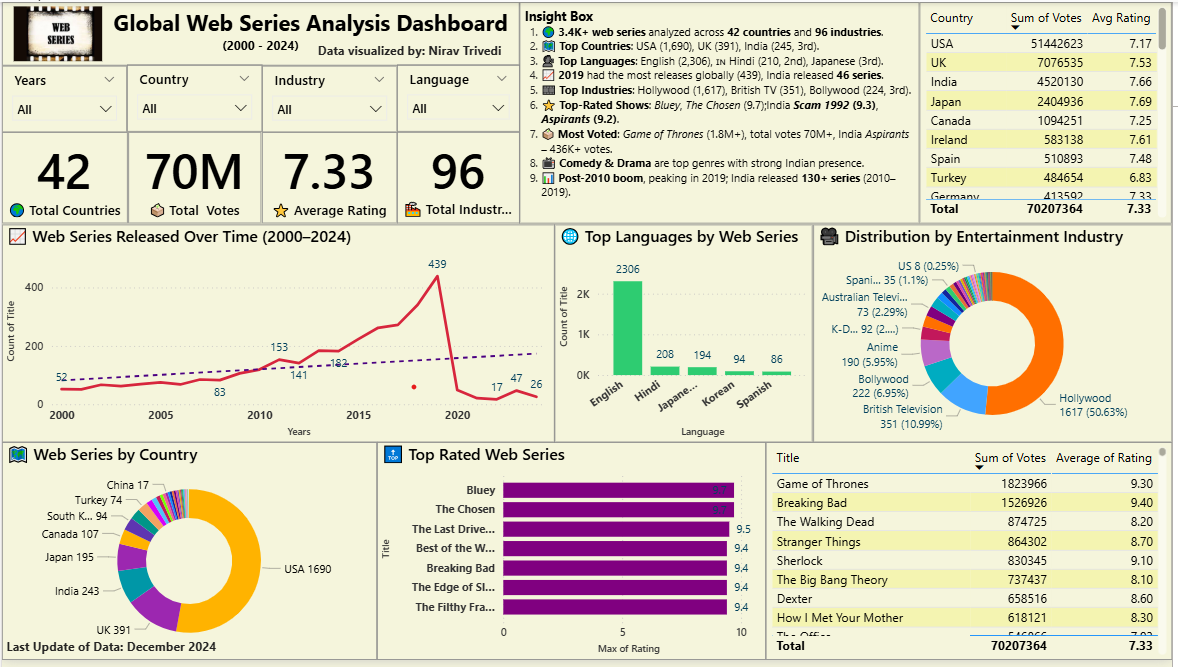

What the dashboard file says about the page in this screenshot:
{"tool":"powerbi","page":{"name":"Page 1","canvas":[1280,720],"ordinal":0},"visuals":[{"type":"donutChart","title":"🗺️ Web Series by Country","fields":{"Category":["imdb_tvshows.Country "],"Y":["CountNonNull(imdb_tvshows.SR No)"]},"box":[0,481.6,410.3,238.8],"z":0},{"type":"lineChart","title":"📈 Web Series Released Over Time (2000–2024)","fields":{"Category":["imdb_tvshows.Years"],"Y":["CountNonNull(imdb_tvshows.Title)"]},"box":[0,242.9,605.1,238.8],"z":1000},{"type":"barChart","title":"🔝 Top Rated Web Series","fields":{"Category":["imdb_tvshows.Title"],"Y":["Max(imdb_tvshows.Rating)"]},"box":[410.3,481.6,425.4,238.8],"z":2000},{"type":"donutChart","title":"🎥 Distribution by Entertainment Industry","fields":{"Y":["CountNonNull(imdb_tvshows.SR No)"],"Category":["imdb_tvshows.Industry"]},"box":[887.8,242.9,392.5,238.8],"z":3000},{"type":"tableEx","fields":{"Values":["imdb_tvshows.Title","Sum(imdb_tvshows.Votes)","Avg(imdb_tvshows.Rating)"]},"box":[835.7,481.6,444.6,238.8],"z":4000},{"type":"columnChart","title":"🌐 Top Languages by Web Series ","fields":{"Category":["imdb_tvshows.Language"],"Y":["CountNonNull(imdb_tvshows.Title)"]},"box":[605.1,242.9,282.7,238.8],"z":5000},{"type":"card","fields":{"Values":["Count(imdb_tvshows.Country )"]},"box":[0,142.7,137.2,100.2],"z":6000},{"type":"card","fields":{"Values":["Sum(imdb_tvshows.Votes)"]},"box":[138.6,142.7,145.5,100.2],"z":7000},{"type":"card","fields":{"Values":["Avg(imdb_tvshows.Rating)"]},"box":[284,142.7,148.2,100.2],"z":8000},{"type":"card","fields":{"Values":["Count(imdb_tvshows.Industry)"]},"box":[432.2,142.3,134,99.9],"z":9000},{"type":"slicer","fields":{"Values":["imdb_tvshows.Country "]},"box":[136.8,68.4,147.7,73.9],"z":10000},{"type":"slicer","fields":{"Values":["imdb_tvshows.Industry"]},"box":[284.5,69.8,147.7,72.5],"z":11000},{"type":"slicer","fields":{"Values":["imdb_tvshows.Language"]},"box":[432.2,68.4,134,73.9],"z":12000},{"type":"slicer","fields":{"Values":["imdb_tvshows.Years"]},"box":[0,69.8,136.8,72.5],"z":13000},{"type":"textbox","box":[0,0,566.3,69.8],"z":14000},{"type":"textbox","box":[566.3,0,437.7,242.1],"z":15000},{"type":"tableEx","fields":{"Values":["imdb_tvshows.Country ","Sum(imdb_tvshows.Votes)","Avg(imdb_tvshows.Rating)"]},"box":[1004,0,276.3,242.1],"z":16000},{"type":"textbox","box":[340.6,38.3,225.7,30.1],"z":17000},{"type":"image","box":[0,0,121.7,69.8],"z":18000},{"type":"textbox","box":[0,690.7,299.6,28.7],"z":19000}]}

Visuals, with their boxes in screenshot pixels (x1, y1, x2, y2), scaled from the page's 1280x720 canvas onto the 1178x667 screenshot:
"🗺️ Web Series by Country" donutChart: (x1=0, y1=446, x2=378, y2=666)
"📈 Web Series Released Over Time (2000–2024)" lineChart: (x1=0, y1=225, x2=557, y2=446)
"🔝 Top Rated Web Series" barChart: (x1=378, y1=446, x2=769, y2=666)
"🎥 Distribution by Entertainment Industry" donutChart: (x1=817, y1=225, x2=1177, y2=446)
tableEx - imdb_tvshows.Title x Sum(imdb_tvshows.Votes): (x1=769, y1=446, x2=1177, y2=666)
"🌐 Top Languages by Web Series " columnChart: (x1=557, y1=225, x2=817, y2=446)
card - Count(imdb_tvshows.Country ): (x1=0, y1=132, x2=126, y2=225)
card - Sum(imdb_tvshows.Votes): (x1=128, y1=132, x2=261, y2=225)
card - Avg(imdb_tvshows.Rating): (x1=261, y1=132, x2=398, y2=225)
card - Count(imdb_tvshows.Industry): (x1=398, y1=132, x2=521, y2=224)
slicer - imdb_tvshows.Country : (x1=126, y1=63, x2=262, y2=132)
slicer - imdb_tvshows.Industry: (x1=262, y1=65, x2=398, y2=132)
slicer - imdb_tvshows.Language: (x1=398, y1=63, x2=521, y2=132)
slicer - imdb_tvshows.Years: (x1=0, y1=65, x2=126, y2=132)
textbox: (x1=0, y1=0, x2=521, y2=65)
textbox: (x1=521, y1=0, x2=924, y2=224)
tableEx - imdb_tvshows.Country  x Sum(imdb_tvshows.Votes): (x1=924, y1=0, x2=1177, y2=224)
textbox: (x1=313, y1=35, x2=521, y2=63)
image: (x1=0, y1=0, x2=112, y2=65)
textbox: (x1=0, y1=640, x2=276, y2=666)
